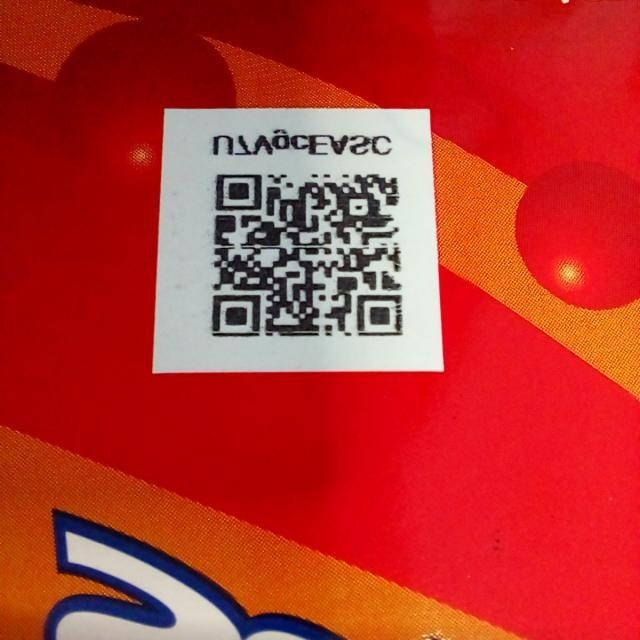qr-code: (205, 163, 412, 342)
